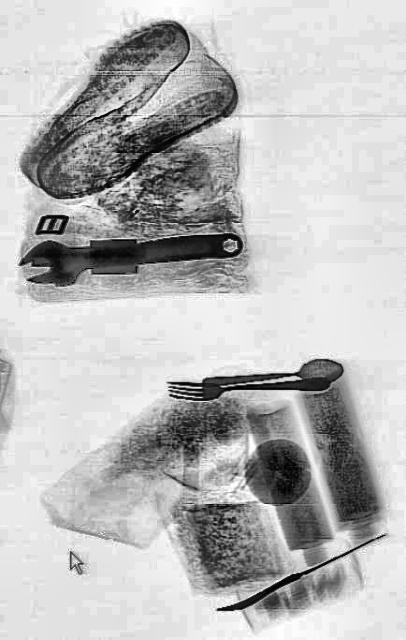Wrench: (15, 220, 243, 290)
